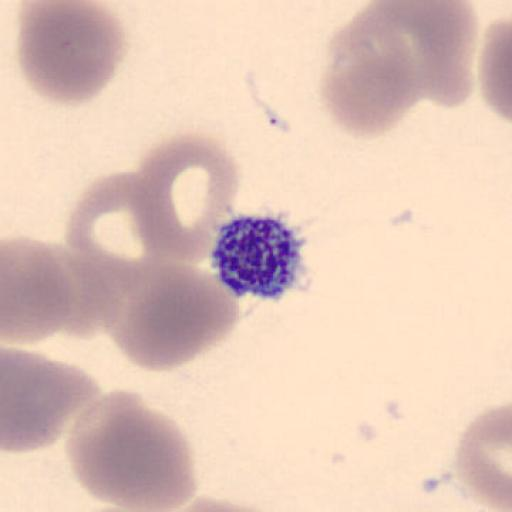Platelet: (208, 209, 314, 303)
RBC: (63, 169, 184, 313), (105, 246, 241, 372), (65, 389, 198, 511), (132, 130, 241, 266), (319, 2, 425, 139), (14, 0, 130, 106), (368, 0, 478, 110), (1, 348, 101, 454), (321, 2, 420, 104), (318, 54, 422, 139), (2, 234, 75, 346), (402, 2, 478, 108), (42, 241, 119, 340), (452, 402, 512, 512), (478, 12, 512, 128), (153, 493, 286, 511)
